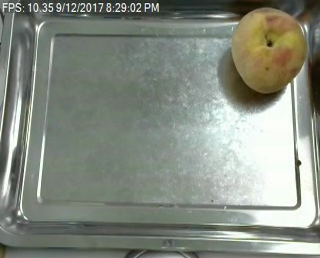Peach: (231, 6, 308, 94)
